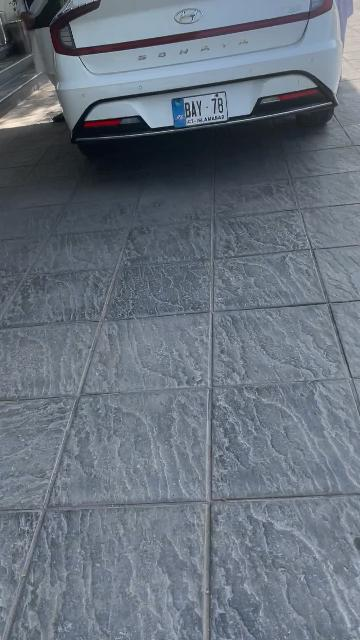plate: (171, 90, 228, 129)
